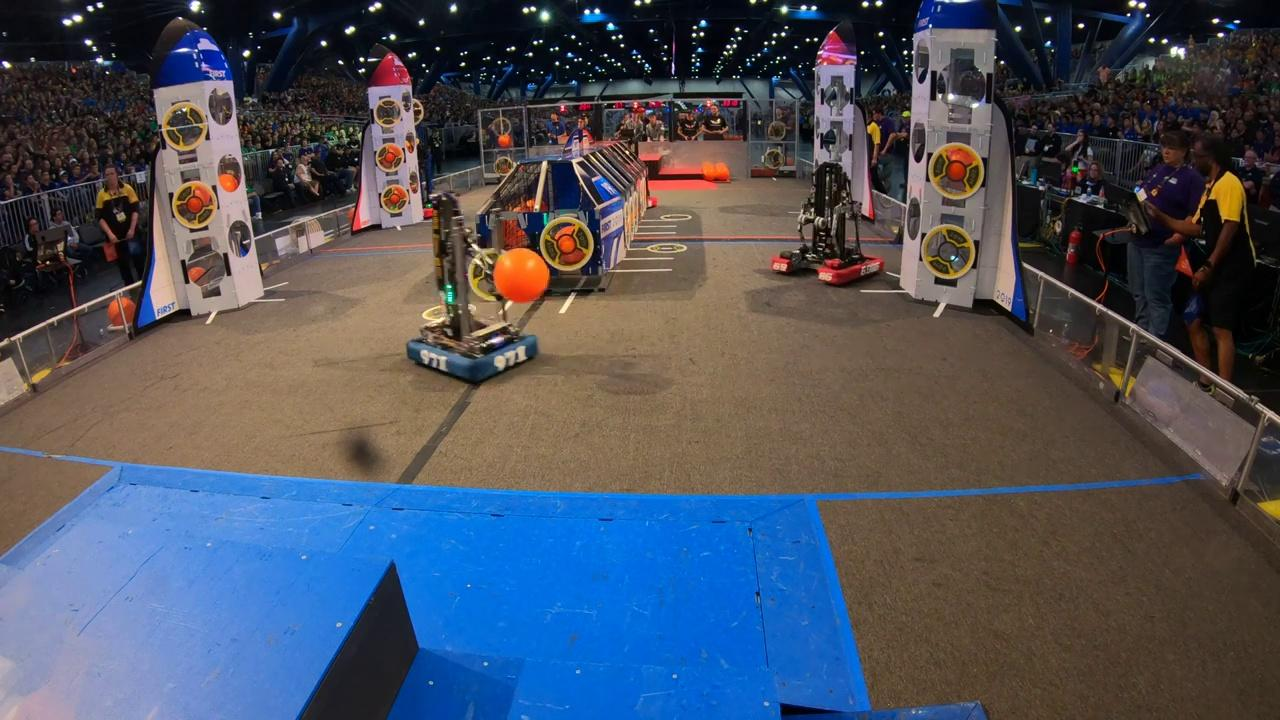robot: (396, 188, 544, 388), (769, 158, 889, 290)
